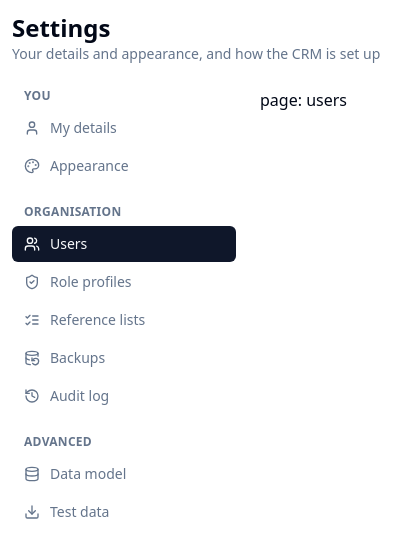
Settings menu › keeps the whole menu on screen while moving between sections
This screenshot has width=397, height=536.
expect the heading "Settings" is shown: met, box top-left (12, 11), bottom-right (110, 44)
Click the link "Role profiles" at (78, 282), box top-left (24, 272), bottom-right (132, 291)
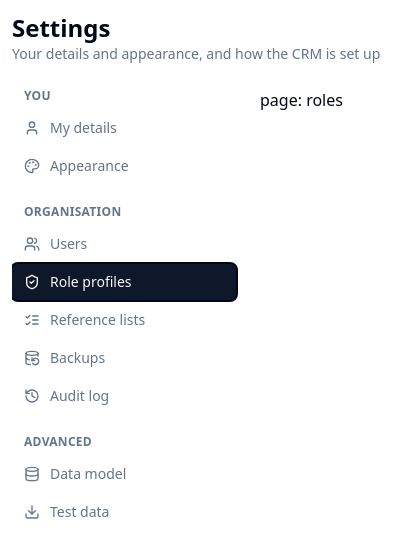
expect the heading "Settings" is shown: met, box top-left (12, 11), bottom-right (110, 44)
expect the text "page: roles" is shown: met, box top-left (260, 89), bottom-right (343, 111)
